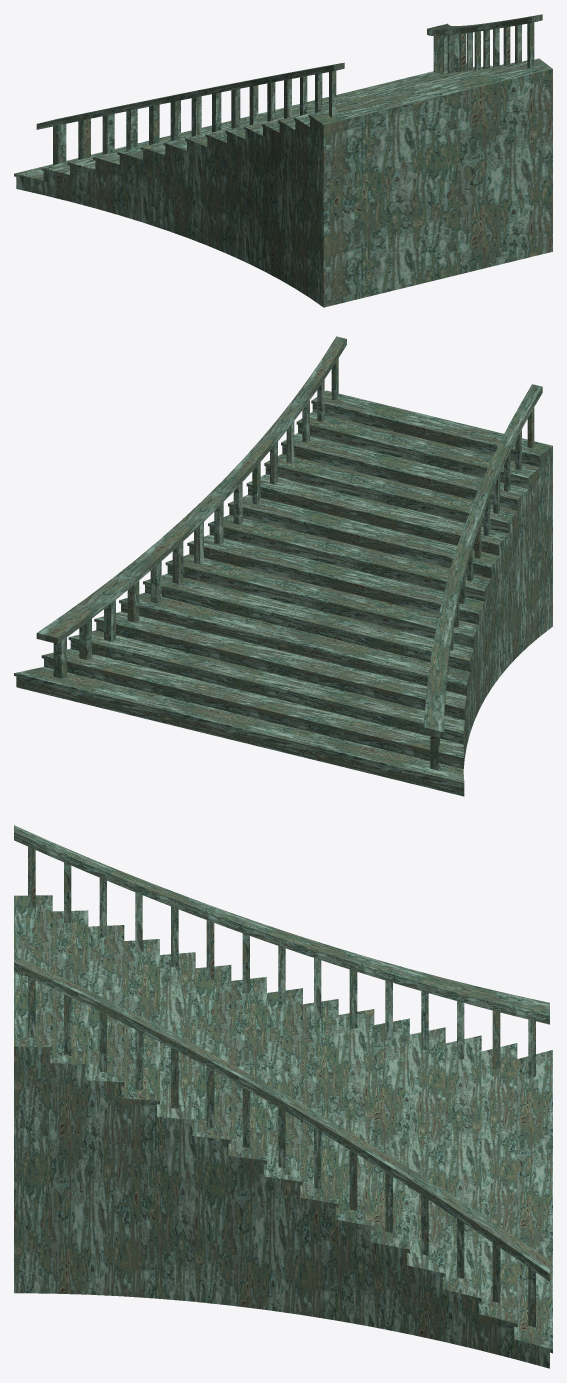
File: Stairs_BallroomFront.FBX
3 views of the same model, one above another, from view 1: azimuth 30°, elevation 25°; view 2: azimuth 150°, elevation 25°; view 3: azimuth 270°, elevation 25° (orthographic). The views are drawn at different scales.
Visible parts, largest first — view 1: Box009; view 2: Box009; view 3: Box009.
Boxes of the visible parts, left/top/right/bottom form: Box009: left=14, top=14, right=552, bottom=307; Box009: left=14, top=336, right=552, bottom=796; Box009: left=14, top=825, right=552, bottom=1368.
Size of the model in its own units: 794 by 400 by 603.
